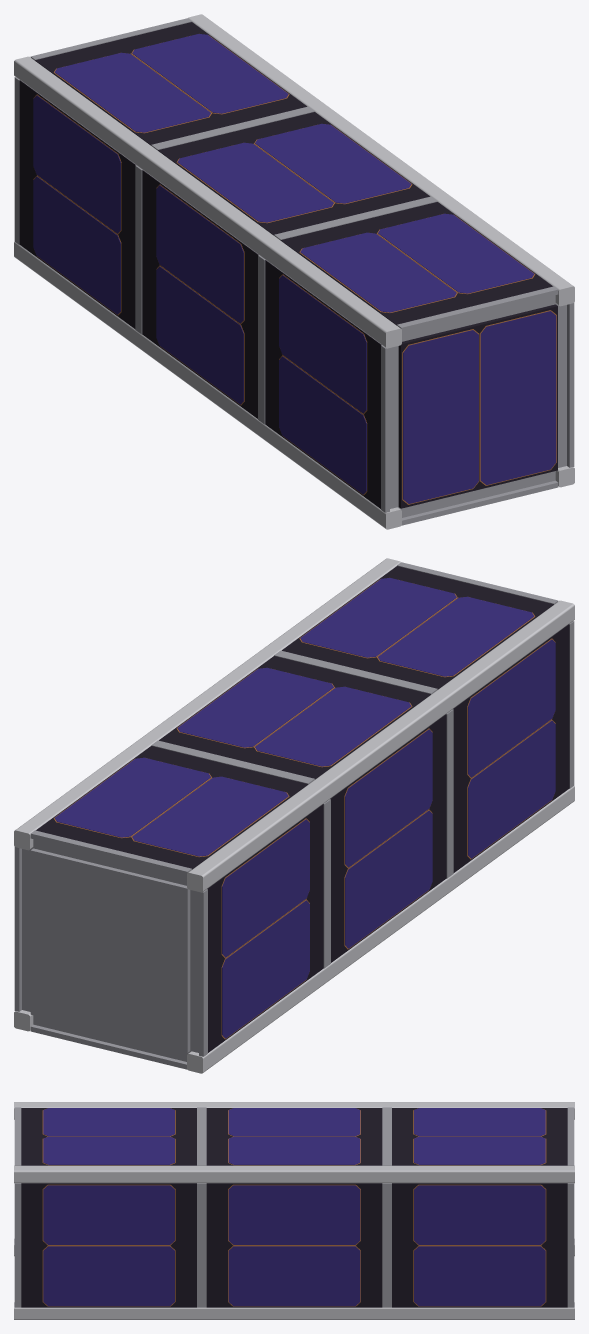
File: CDS_3U_nasa_style.obj
3 renders of one model, top to bottom at view 1: azimuth 30°, elevation 25°; view 2: azimuth 150°, elevation 25°; view 3: azimuth 270°, elevation 25°, orthographic. The views are drawn at different scales.
Parts seen in each view (by area): view 1: solar_panel_pZ_cells, solar_panel_mX_z3_cells, solar_panel_mX_z1_cells, solar_panel_mX_z2_cells, solar_panel_pY_z2_cells, solar_panel_pY_z3_cells, solar_panel_pY_z1_cells, rail_mX_pY, rail_mX_mY, rail_pX_pY, structure_body, solar_panel_mX_z1_substrate (+11 smaller); view 2: structure_endplate_mZ, solar_panel_mX_z1_cells, solar_panel_mX_z2_cells, solar_panel_mX_z3_cells, solar_panel_pY_z2_cells, solar_panel_pY_z1_cells, solar_panel_pY_z3_cells, rail_mX_pY, rail_mX_mY, rail_pX_pY, structure_body, solar_panel_mX_z3_substrate (+9 smaller); view 3: solar_panel_pX_z2_cells, solar_panel_pX_z1_cells, solar_panel_pX_z3_cells, rail_pX_pY, solar_panel_pY_z2_cells, solar_panel_pY_z1_cells, solar_panel_pY_z3_cells, rail_pX_mY, solar_panel_pX_z2_substrate, solar_panel_pX_z1_substrate, solar_panel_pX_z3_substrate, structure_band_pX (+11 smaller).
Boxes of the visible parts, bbox=[...] form: solar_panel_pZ_cells: bbox=[403, 311, 556, 503]; solar_panel_mX_z3_cells: bbox=[279, 275, 366, 494]; solar_panel_mX_z1_cells: bbox=[33, 95, 120, 314]; solar_panel_mX_z2_cells: bbox=[156, 185, 243, 404]; solar_panel_pY_z2_cells: bbox=[177, 123, 411, 222]; solar_panel_pY_z3_cells: bbox=[300, 213, 534, 312]; solar_panel_pY_z1_cells: bbox=[54, 34, 288, 132]; rail_mX_pY: bbox=[14, 56, 401, 348]; rail_mX_mY: bbox=[14, 241, 401, 529]; rail_pX_pY: bbox=[188, 14, 574, 306]; structure_body: bbox=[390, 295, 566, 517]; solar_panel_mX_z1_substrate: bbox=[19, 80, 135, 328]; structure_endplate_mZ: bbox=[30, 848, 190, 1052]; solar_panel_mX_z1_cells: bbox=[222, 819, 309, 1038]; solar_panel_mX_z2_cells: bbox=[345, 729, 432, 948]; solar_panel_mX_z3_cells: bbox=[468, 639, 555, 858]; solar_panel_pY_z2_cells: bbox=[177, 667, 411, 766]; solar_panel_pY_z1_cells: bbox=[54, 757, 288, 856]; solar_panel_pY_z3_cells: bbox=[300, 578, 534, 676]; rail_mX_pY: bbox=[187, 600, 574, 892]; rail_mX_mY: bbox=[187, 785, 574, 1073]; rail_pX_pY: bbox=[14, 558, 400, 850]; structure_body: bbox=[22, 839, 198, 1061]; solar_panel_mX_z3_substrate: bbox=[453, 624, 569, 872]; solar_panel_pX_z2_cells: bbox=[228, 1185, 360, 1306]; solar_panel_pX_z1_cells: bbox=[414, 1185, 545, 1306]; solar_panel_pX_z3_cells: bbox=[43, 1185, 174, 1306]; rail_pX_pY: bbox=[14, 1165, 574, 1183]; solar_panel_pY_z2_cells: bbox=[228, 1108, 360, 1164]; solar_panel_pY_z1_cells: bbox=[414, 1108, 545, 1164]; solar_panel_pY_z3_cells: bbox=[43, 1108, 174, 1164]; rail_pX_mY: bbox=[14, 1302, 574, 1319]; solar_panel_pX_z2_substrate: bbox=[206, 1183, 382, 1307]; solar_panel_pX_z1_substrate: bbox=[392, 1183, 567, 1307]; solar_panel_pX_z3_substrate: bbox=[21, 1183, 196, 1307]; structure_band_pX: bbox=[14, 1183, 574, 1307].
Bounding box in the file's own units: 0.1 × 0.1 × 0.3405.
